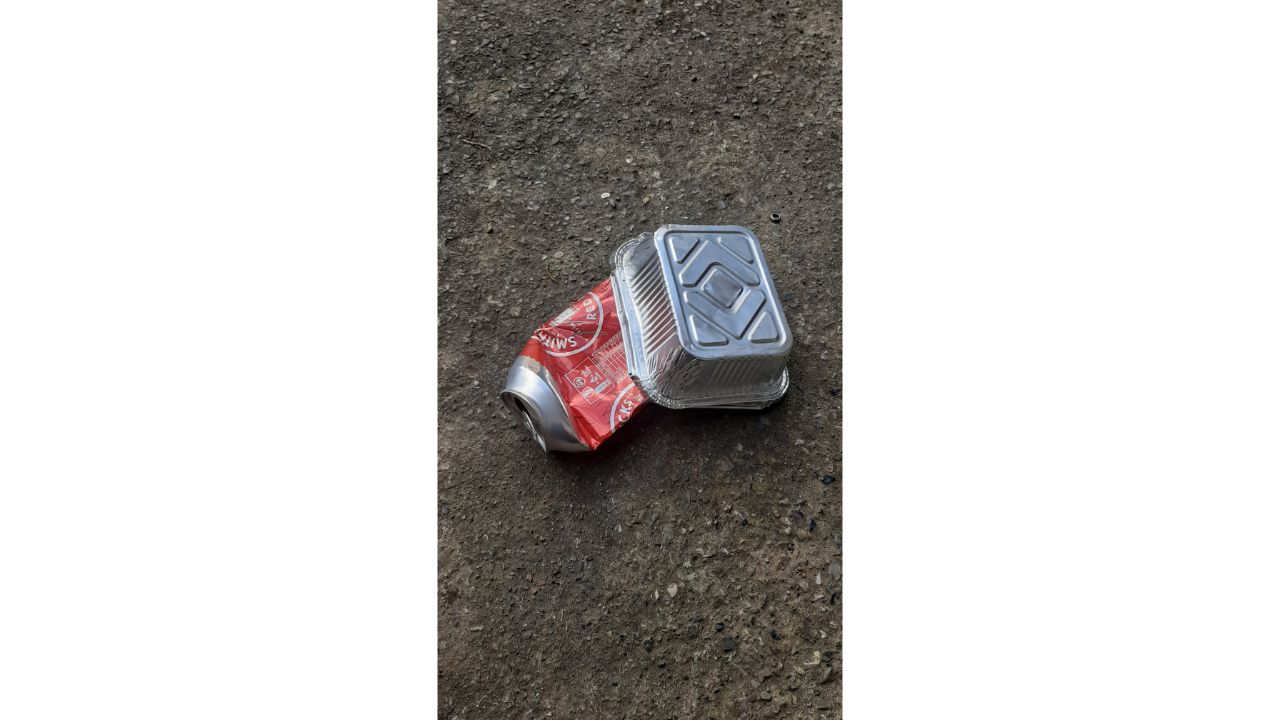Can: (495, 267, 650, 462)
